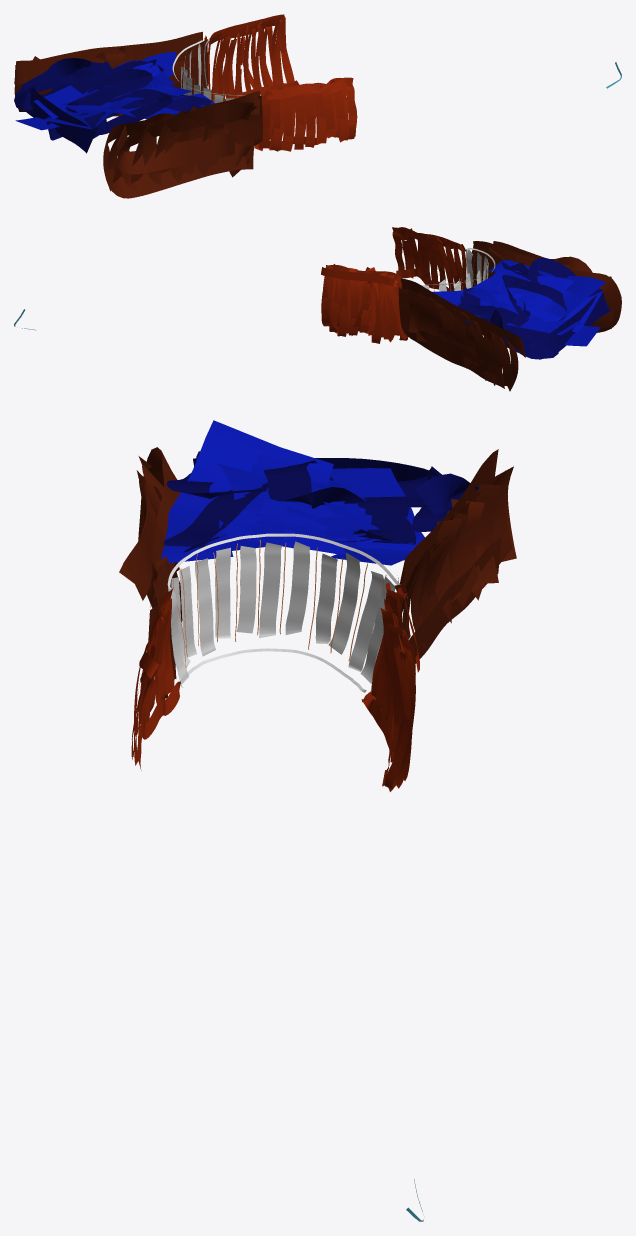
Rendered from hoover dam.fbx.
3 views of the same model, one above another, from view 1: azimuth 30°, elevation 25°; view 2: azimuth 150°, elevation 25°; view 3: azimuth 270°, elevation 25° (orthographic). The views are drawn at different scales.
Parts seen in each view (by area): view 1: Untitled_4_Flat_geo; view 2: Untitled_4_Flat_geo; view 3: Untitled_4_Flat_geo.
Boxes of the visible parts, <box> form: Untitled_4_Flat_geo: <box>14,14,621,198</box>; Untitled_4_Flat_geo: <box>14,227,621,391</box>; Untitled_4_Flat_geo: <box>119,420,516,1221</box>.
Size of the model in its own units: 5.79 by 1.41 by 1.78.
